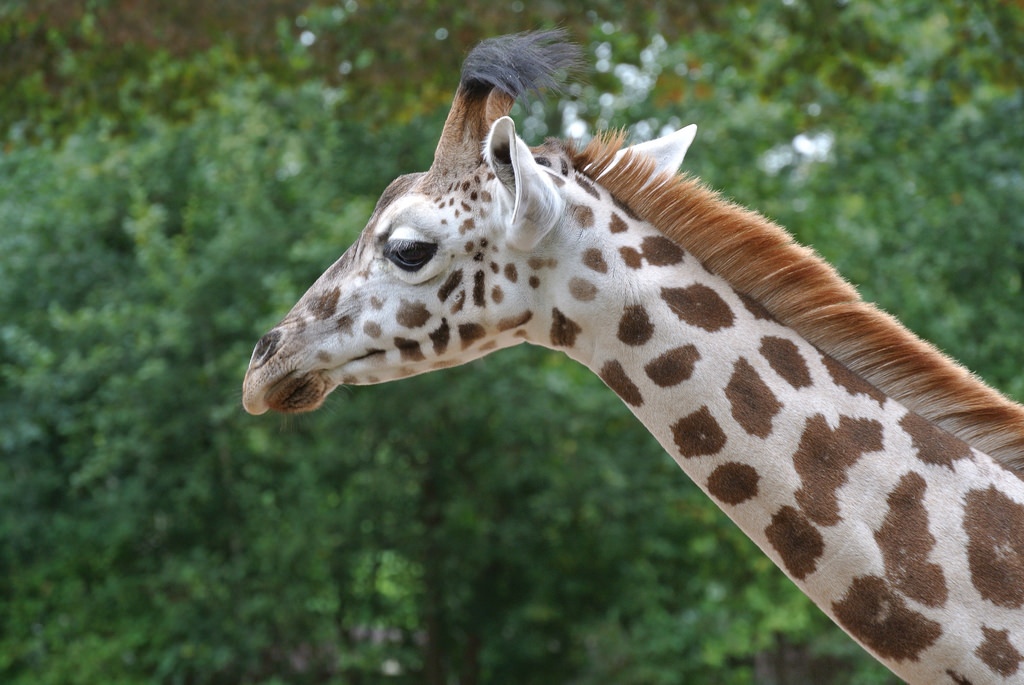giraffe: (189, 30, 1013, 671)
